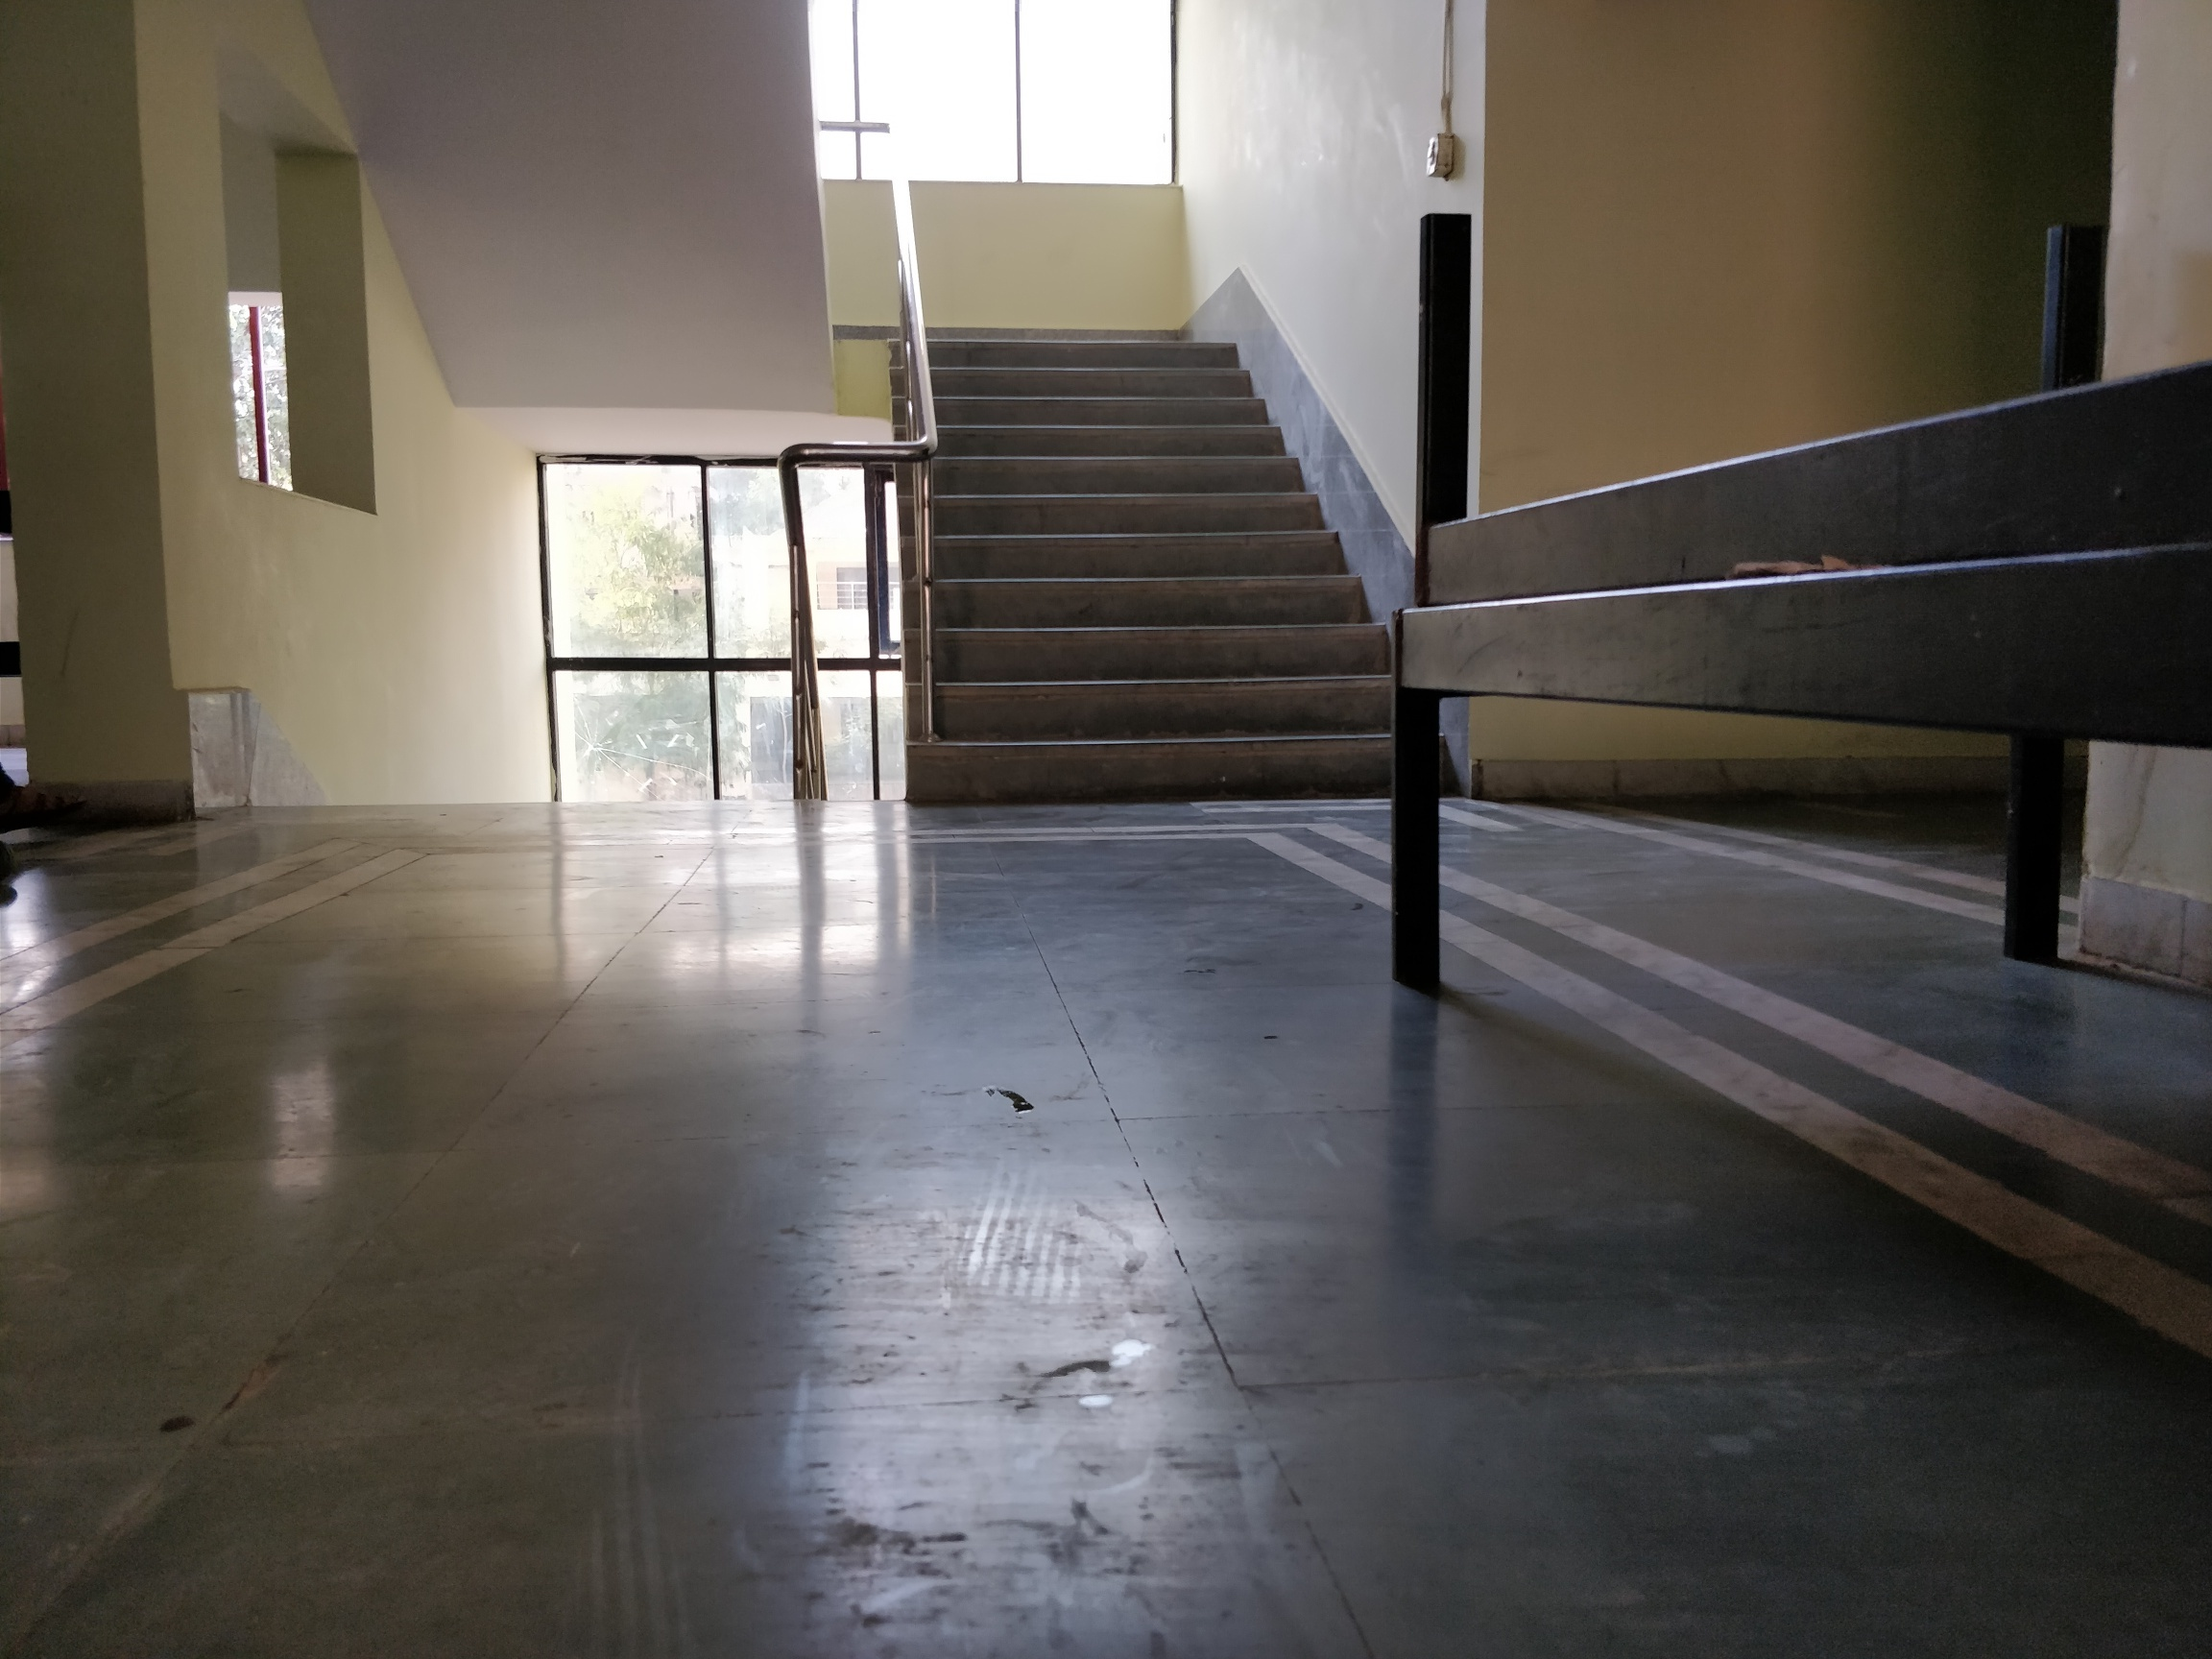stairs_up: (888, 338, 1397, 800)
